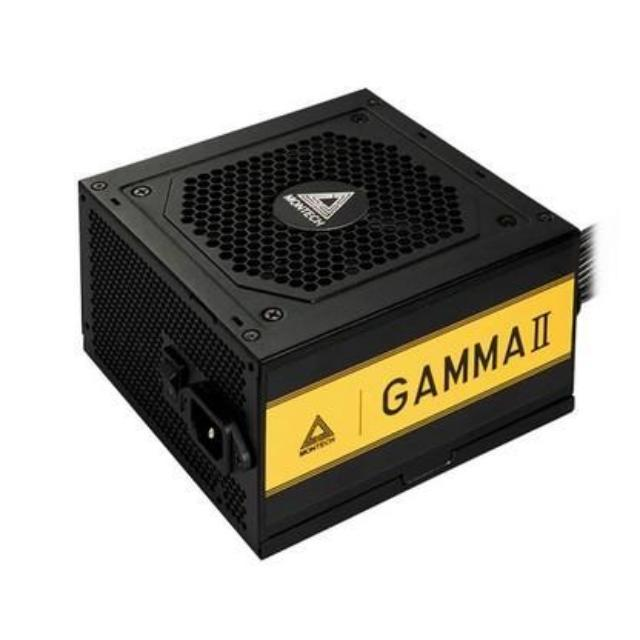PSU: (78, 71, 600, 574)
